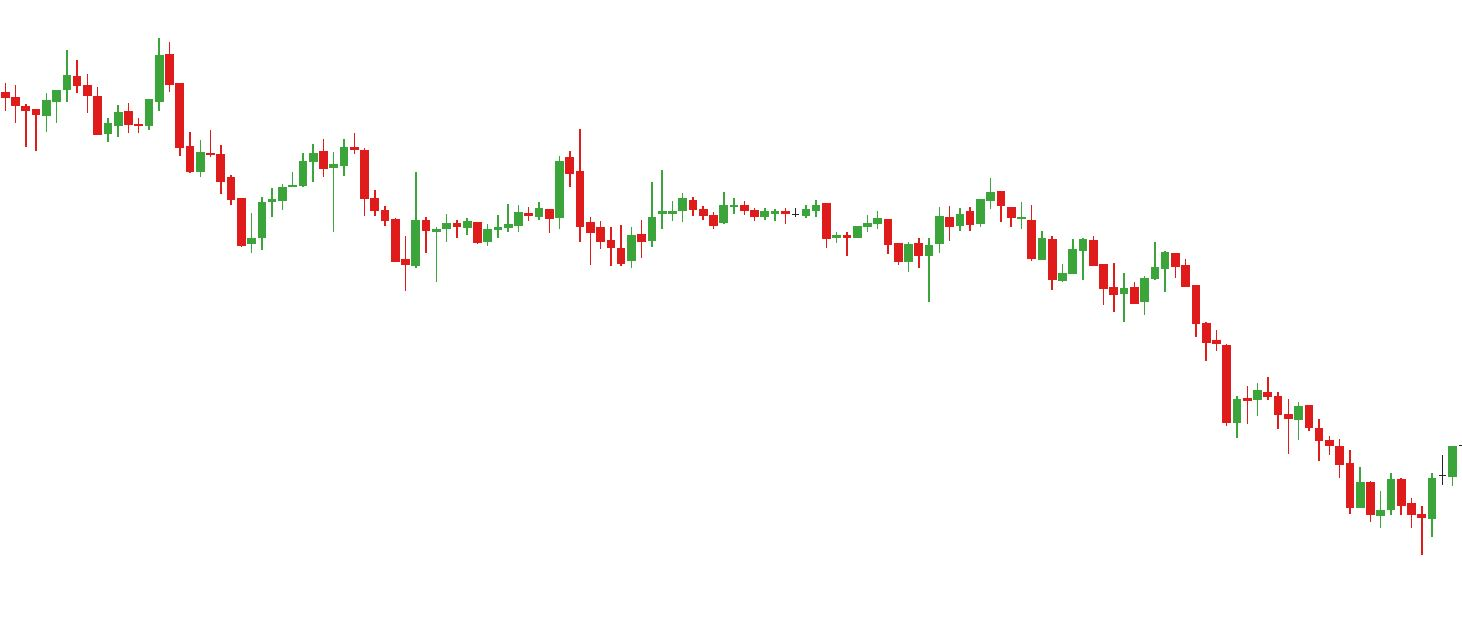buy: (235, 191, 422, 287)
sell: (64, 39, 174, 113)
